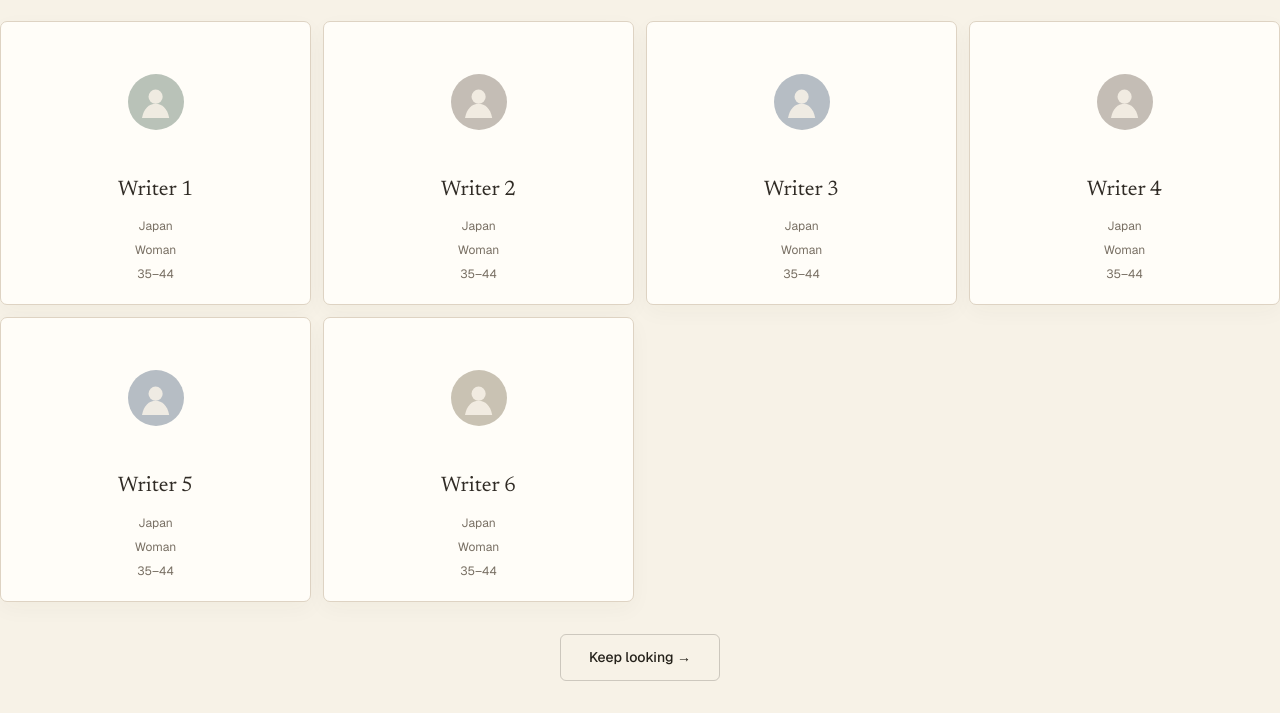
Scenario: Discover People: intentional finite writer directory › fetches only when Keep looking is activated and appends the next page without duplicating an author
(page scrolled)
Click the button "Keep looking →" at [640, 657], box x1=560 y1=634 x2=720 y2=680
(page scrolled)
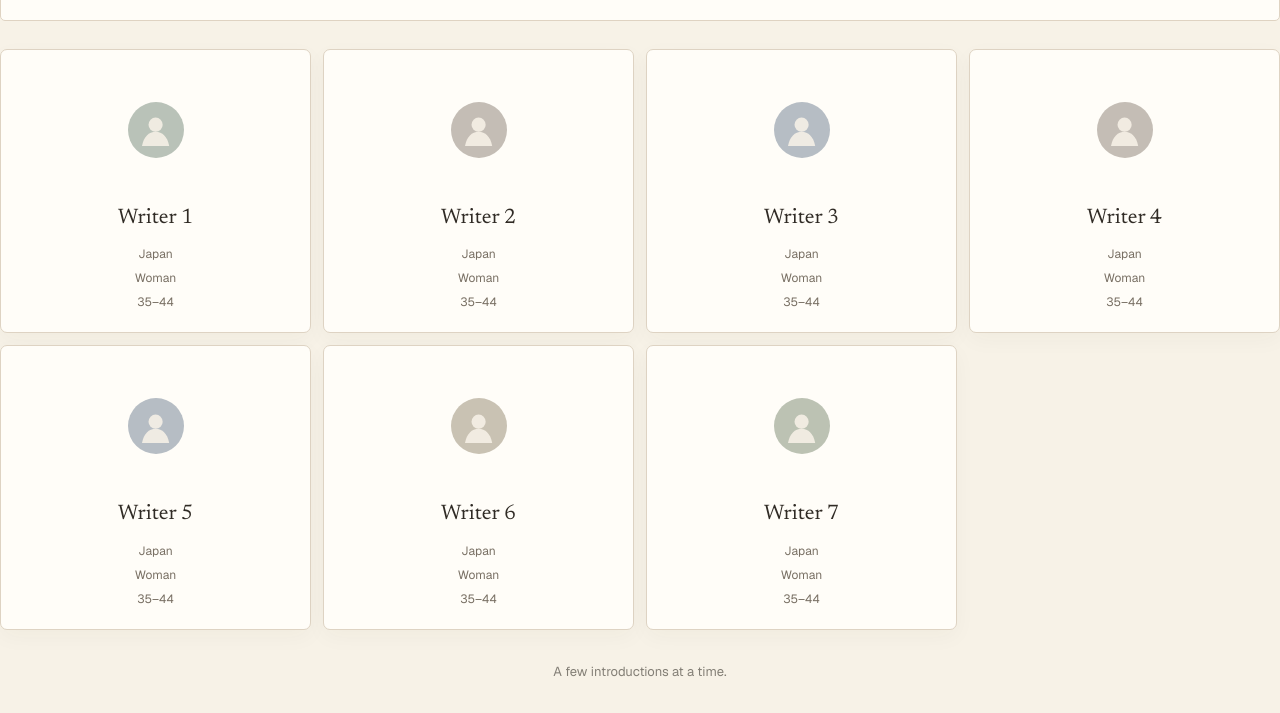
Result: the text "Keep looking" is gone
